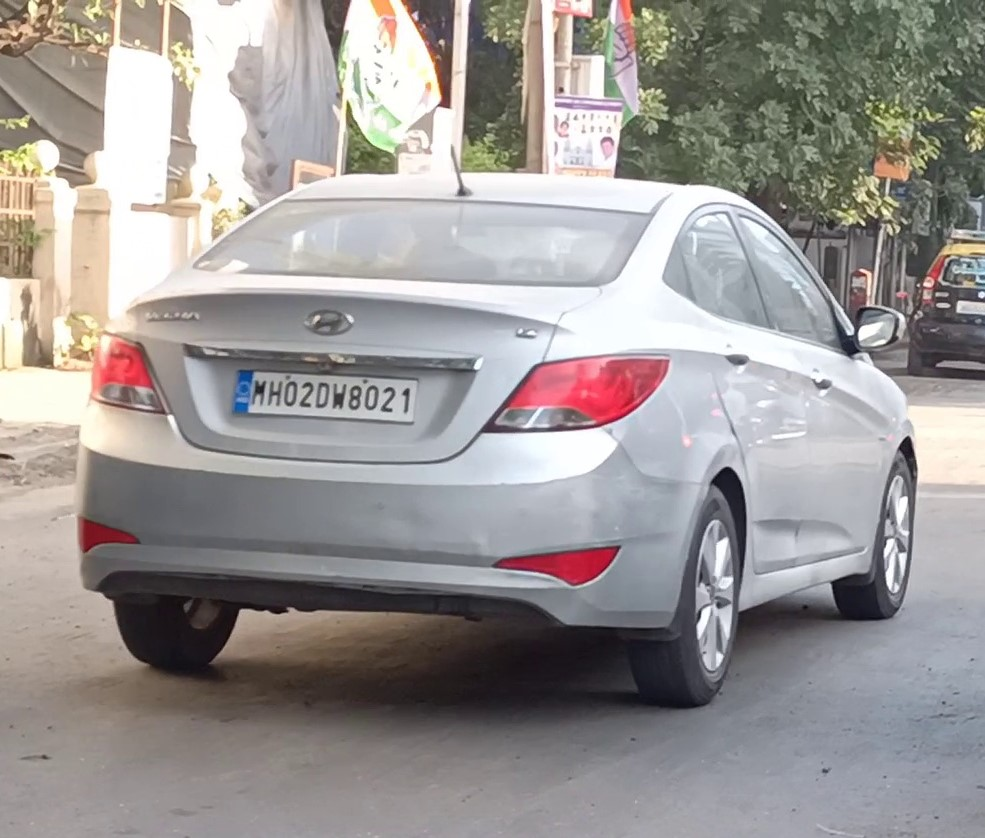MH02DW8021: (233, 369, 417, 426)
